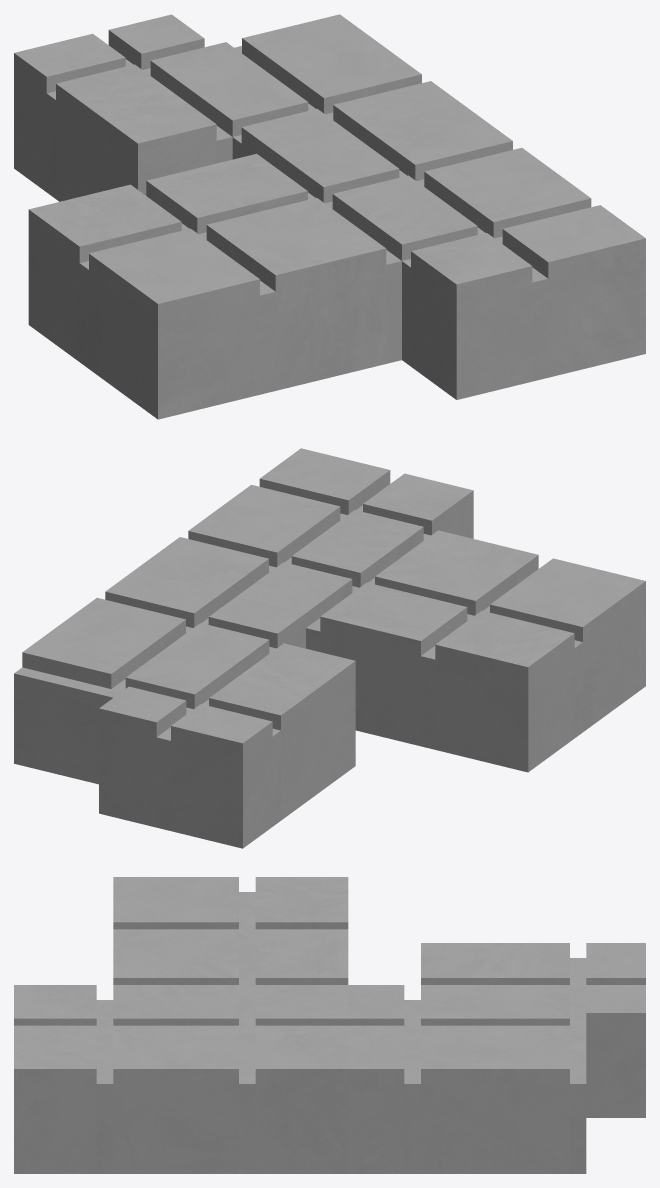
File: ArcadeWalls.FBX
3 views of the same model, one above another, from view 1: azimuth 30°, elevation 25°; view 2: azimuth 150°, elevation 25°; view 3: azimuth 270°, elevation 25° (orthographic). The views are drawn at different scales.
Parts seen in each view (by area): view 1: LevelMesh; view 2: LevelMesh; view 3: LevelMesh.
Boxes of the visible parts, x1,y1,x2,y2 form: LevelMesh: [14, 14, 645, 419]; LevelMesh: [14, 448, 645, 848]; LevelMesh: [14, 877, 645, 1173].
Bounding box in the file's own units: 1373 × 350 × 1910.
